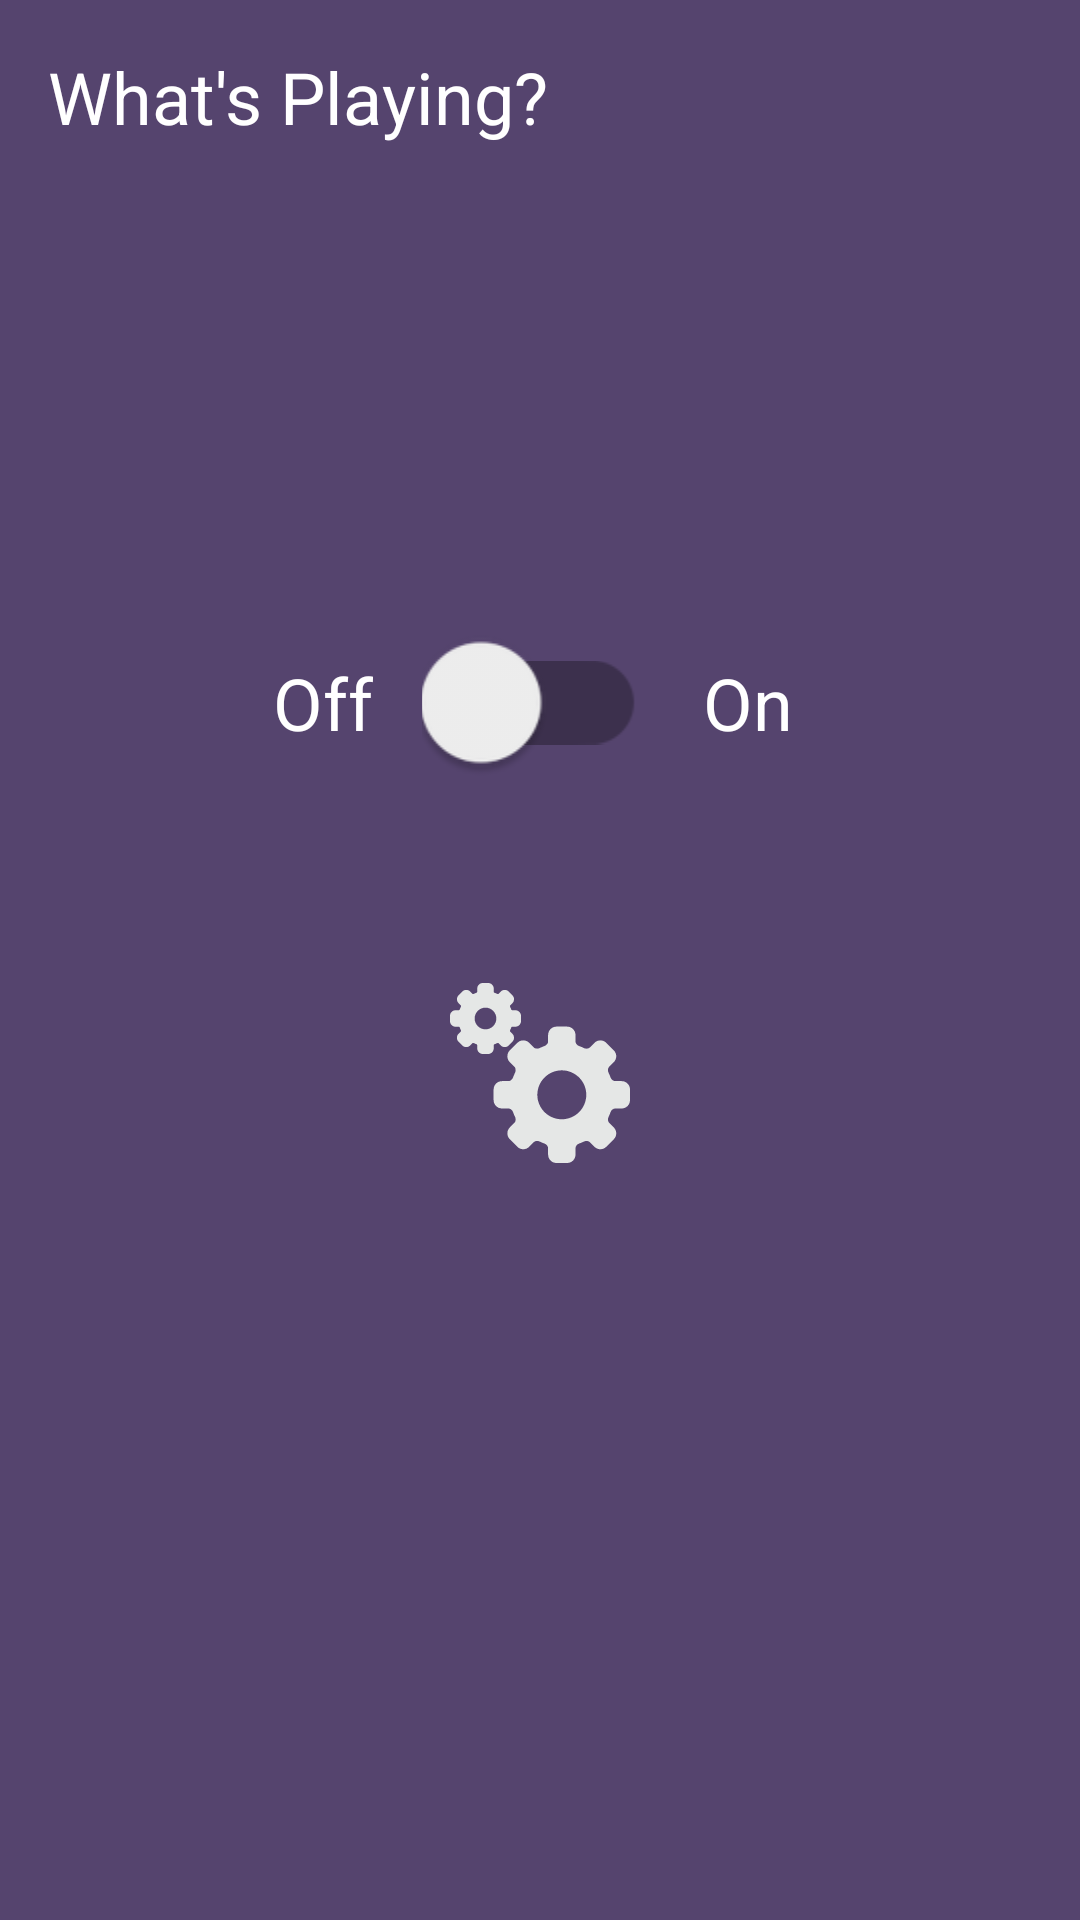

Locate icon controls on the screen. Image size 1080*1920, boxes as bbox=[x1, y1, x2, y2].
settings: bbox=[450, 983, 630, 1163]
